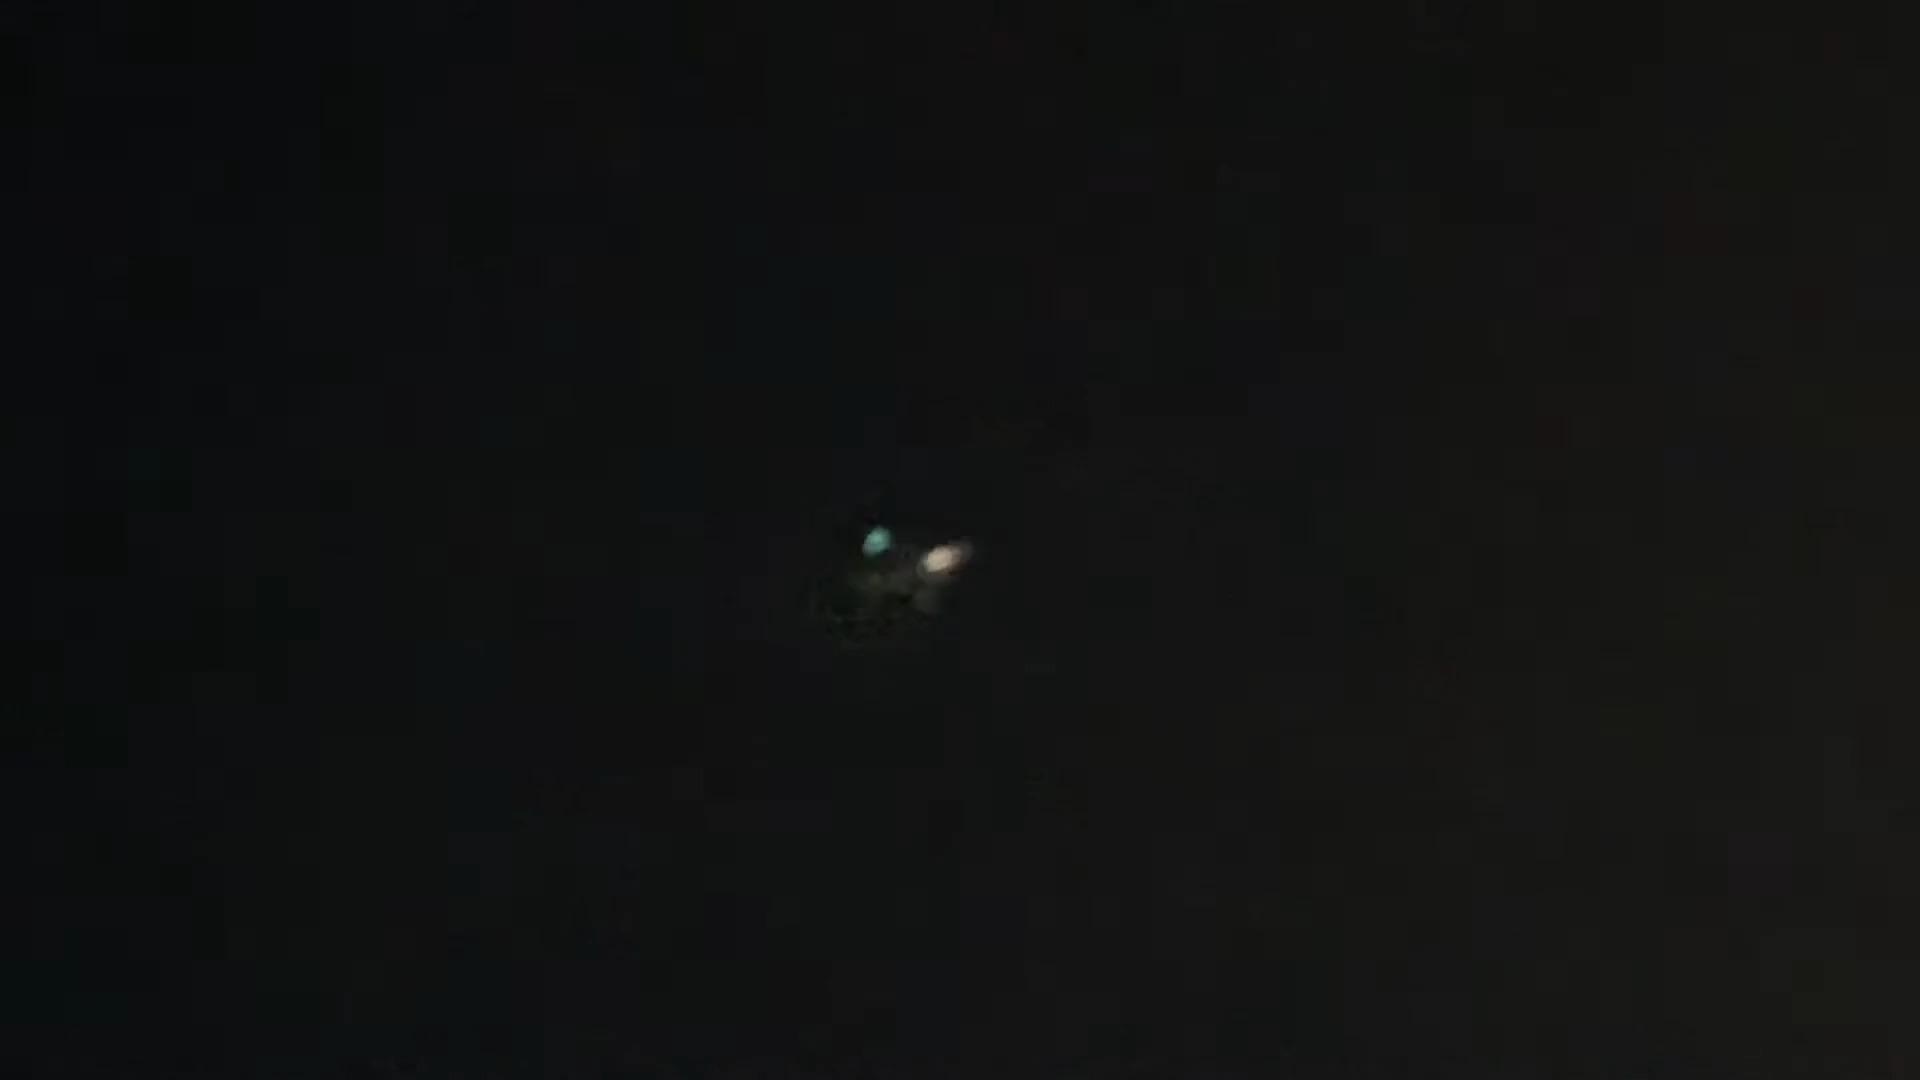Plane: (775, 498, 1054, 645)
